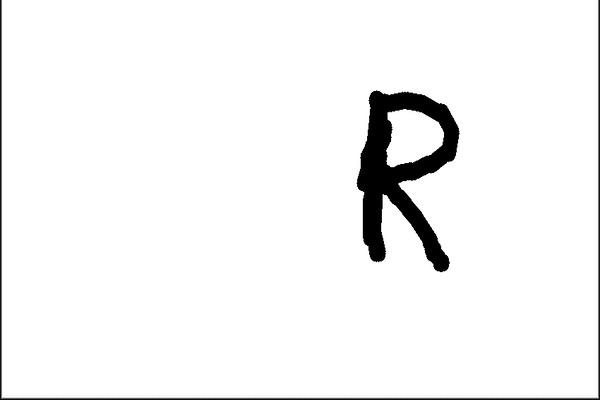R: (355, 77, 470, 276)
